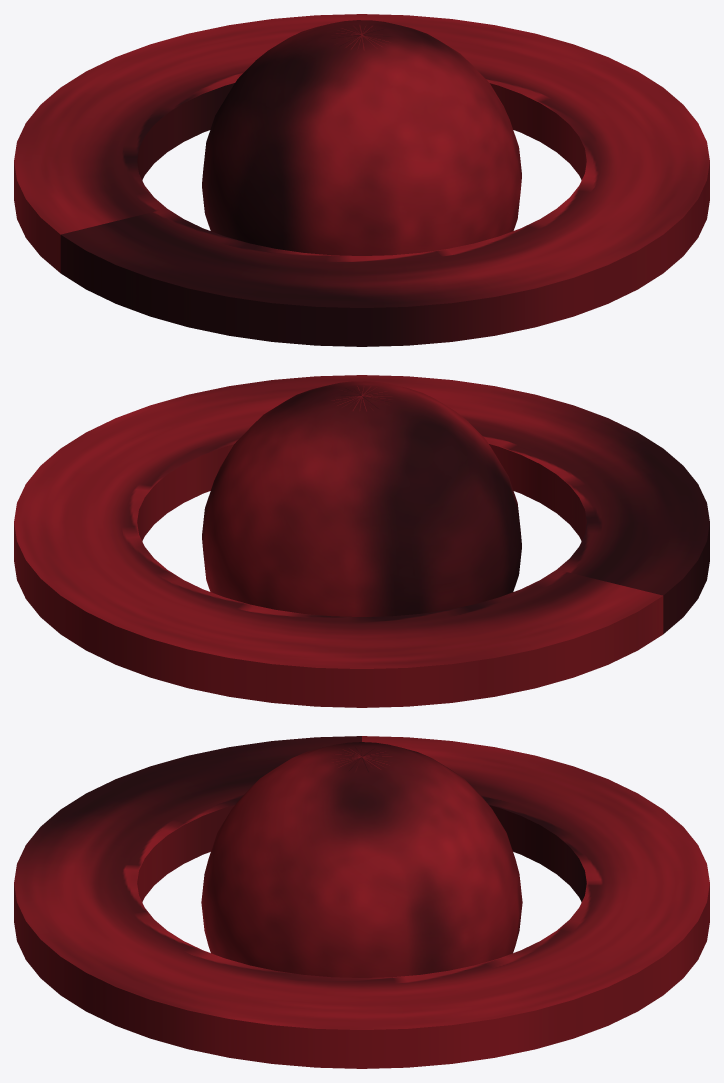
The model's file is item-6-3.glb.
3 renders of one model, top to bottom at view 1: azimuth 30°, elevation 25°; view 2: azimuth 150°, elevation 25°; view 3: azimuth 270°, elevation 25°, orthographic.
Visible parts, largest first — view 1: plat, planet; view 2: plat, planet; view 3: plat, planet.
Boxes of the visible parts, x1=… form: plat: x1=14, y1=14, x2=709, y2=346; planet: x1=202, y1=20, x2=521, y2=255; plat: x1=14, y1=375, x2=709, y2=707; planet: x1=202, y1=381, x2=521, y2=616; plat: x1=14, y1=736, x2=709, y2=1068; planet: x1=201, y1=742, x2=522, y2=977.
Size of the model in its own units: 1.3 by 0.6 by 1.3.
Materials: 2 (2 with a texture image).
